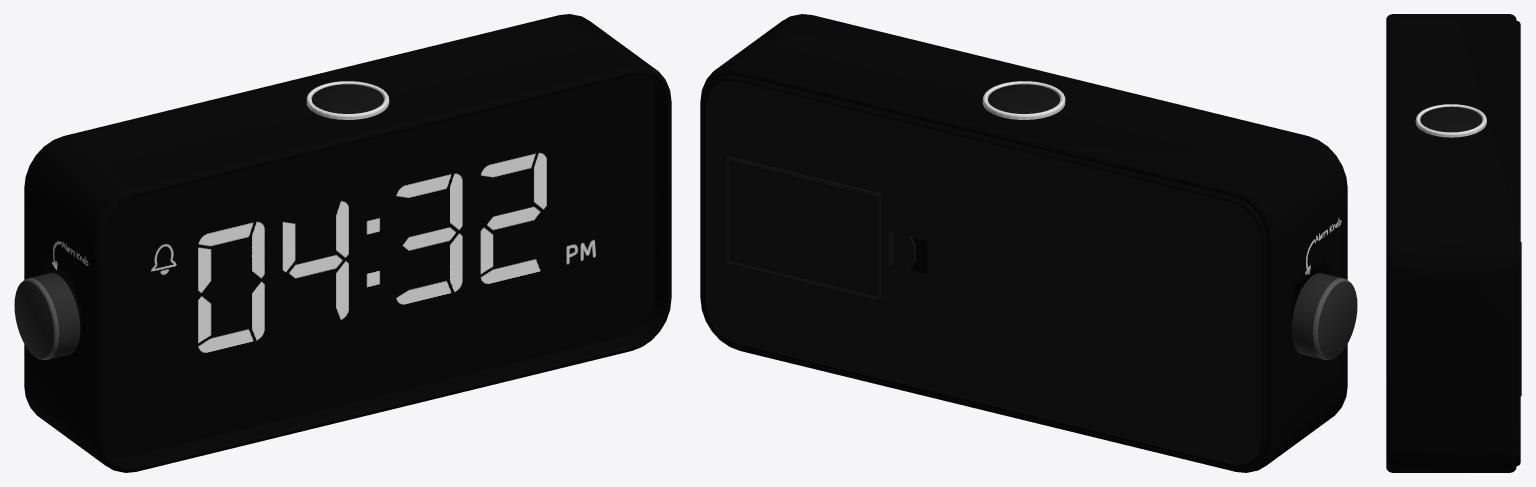
File: waker.fbx
The picture shows the model from 3 angles, left to right: view 1: azimuth 30°, elevation 25°; view 2: azimuth 150°, elevation 25°; view 3: azimuth 270°, elevation 25°; orthographic projection. The views are drawn at different scales.
Parts seen in each view (by area): view 1: screen, Plane.001, slider, button; view 2: back lid, Plane.001, battery, slider, button; view 3: Plane.001, back lid, button, battery.
Part boxes in pixels (x1,y1,x2,y2): screen: [103, 74, 654, 458]; Plane.001: [24, 14, 671, 472]; slider: [14, 273, 80, 359]; button: [306, 81, 389, 119]; back lid: [704, 75, 1267, 468]; Plane.001: [700, 14, 1347, 472]; battery: [725, 155, 915, 300]; slider: [1291, 273, 1357, 359]; button: [982, 81, 1065, 119]; Plane.001: [1386, 14, 1516, 472]; back lid: [1516, 21, 1520, 465]; button: [1415, 104, 1486, 137]; battery: [1520, 242, 1521, 396].
Bounding box in the file's own units: 331 × 152 × 74.93.
7 materials, 2 textured.
